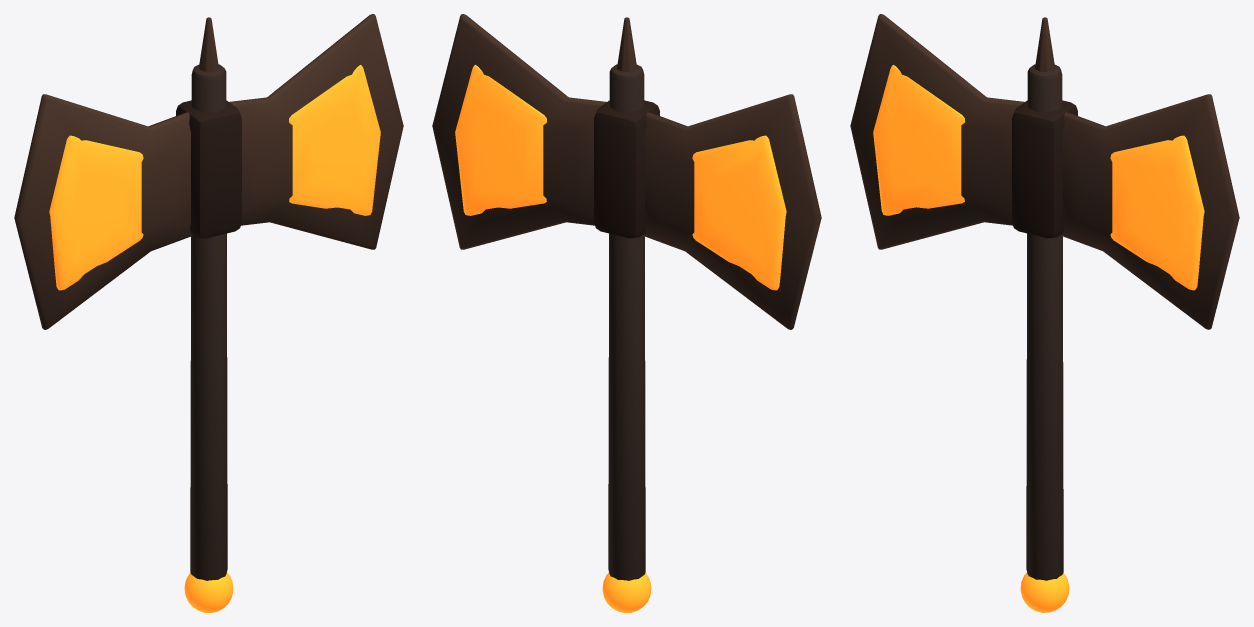
File: worldbreaker.glb
The picture shows the model from 3 angles, left to right: view 1: azimuth 30°, elevation 25°; view 2: azimuth 150°, elevation 25°; view 3: azimuth 330°, elevation 25°; orthographic projection.
Parts seen in each view (by area): view 1: wpn_worldbreaker; view 2: wpn_worldbreaker; view 3: wpn_worldbreaker.
Boxes of the visible parts, bbox=[...] form: wpn_worldbreaker: bbox=[14, 14, 403, 612]; wpn_worldbreaker: bbox=[432, 14, 821, 612]; wpn_worldbreaker: bbox=[850, 14, 1239, 612].
Size of the model in its own units: 1.64 by 2.39 by 0.2.
